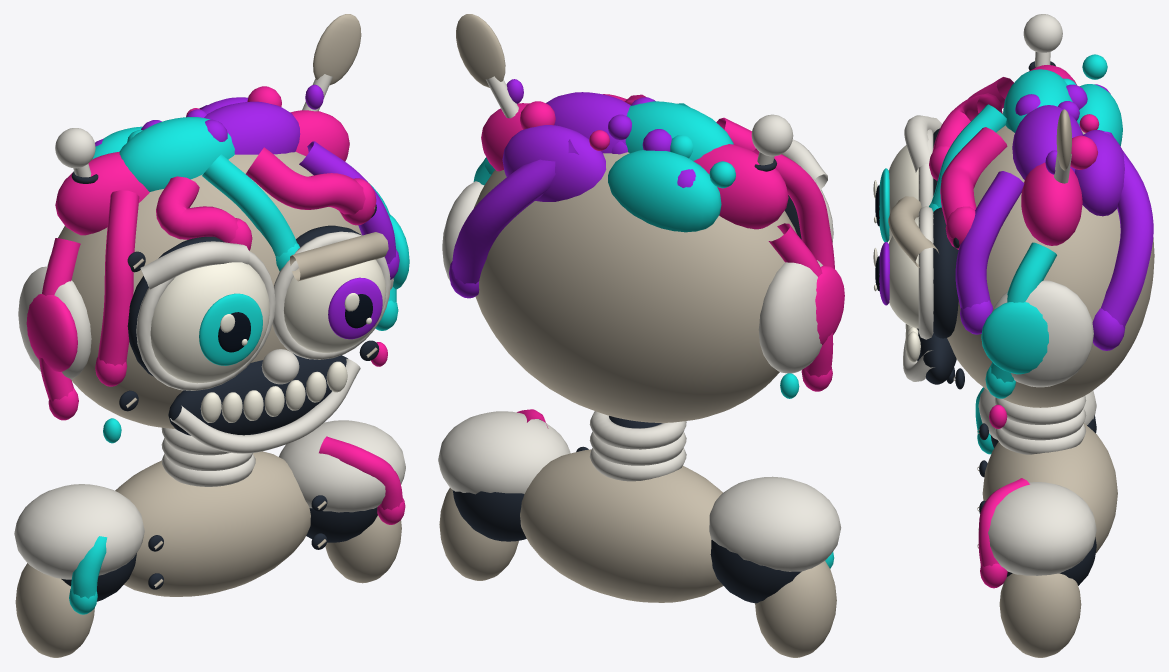
Rendered from robot.glb.
3 views of the same model, side by side, from view 1: azimuth 30°, elevation 25°; view 2: azimuth 150°, elevation 25°; view 3: azimuth 270°, elevation 25° (orthographic). The views are drawn at different scales.
Parts seen in each view (by area): view 1: Chest shell, Rounded head shell, Shoulder armour, Eyeball, Shoulder armour.001, Candy crown lobe.001, Glossy candy drip, Upper arm, Smile dark opening, Eyeball.001, Glossy candy drip.002, Candy crown lobe (+34 smaller); view 2: Rounded head shell, Chest shell, Shoulder armour, Shoulder armour.001, Candy crown lobe.004, Ear housing, Upper arm, Glossy candy drip.007, Candy crown lobe.005, Candy crown lobe, Upper arm.001, Candy crown lobe.001 (+17 smaller); view 3: Rounded head shell, Shoulder armour.001, Chest shell, Upper arm.001, Ear housing.001, Glossy candy drip.007, Glossy candy drip.003, Ear candy inset.001, Candy crown lobe.003, Glossy candy drip.002, Candy crown lobe.005, Eye socket dark gasket.001 (+33 smaller).
Boxes of the visible parts, bbox=[...] form: Chest shell: bbox=[115, 451, 310, 596]; Rounded head shell: bbox=[47, 151, 361, 429]; Shoulder armour: bbox=[14, 484, 144, 579]; Eyeball: bbox=[150, 262, 269, 383]; Shoulder armour.001: bbox=[279, 420, 405, 512]; Candy crown lobe.001: bbox=[119, 117, 234, 191]; Glossy candy drip: bbox=[98, 190, 139, 365]; Upper arm: bbox=[15, 563, 94, 657]; Smile dark opening: bbox=[168, 353, 347, 435]; Eyeball.001: bbox=[284, 259, 386, 352]; Glossy candy drip.002: bbox=[246, 147, 365, 214]; Candy crown lobe: bbox=[55, 151, 149, 235]; Rounded head shell: bbox=[473, 152, 796, 422]; Chest shell: bbox=[520, 449, 723, 602]; Shoulder armour: bbox=[709, 476, 841, 571]; Shoulder armour.001: bbox=[438, 411, 570, 494]; Candy crown lobe.004: bbox=[608, 150, 721, 232]; Ear housing: bbox=[758, 260, 822, 373]; Upper arm: bbox=[755, 561, 836, 657]; Glossy candy drip.007: bbox=[452, 139, 578, 283]; Candy crown lobe.005: bbox=[502, 125, 606, 201]; Candy crown lobe: bbox=[693, 144, 788, 229]; Upper arm.001: bbox=[439, 488, 518, 580]; Candy crown lobe.001: bbox=[625, 101, 733, 161]; Rounded head shell: bbox=[947, 113, 1154, 407]; Shoulder armour.001: bbox=[978, 482, 1096, 575]; Chest shell: bbox=[982, 423, 1117, 552]; Upper arm.001: bbox=[999, 573, 1081, 657]; Ear housing.001: bbox=[992, 280, 1093, 387]; Glossy candy drip.007: bbox=[1101, 131, 1153, 328]; Glossy candy drip.003: bbox=[955, 171, 1024, 308]; Ear candy inset.001: bbox=[981, 302, 1048, 374]; Candy crown lobe.003: bbox=[1021, 162, 1082, 245]; Glossy candy drip.002: bbox=[940, 127, 1007, 224]; Candy crown lobe.005: bbox=[1075, 130, 1124, 216]; Eye socket dark gasket.001: bbox=[933, 207, 958, 338].
Bounding box in the file's own units: 3 × 4.25 × 2.
